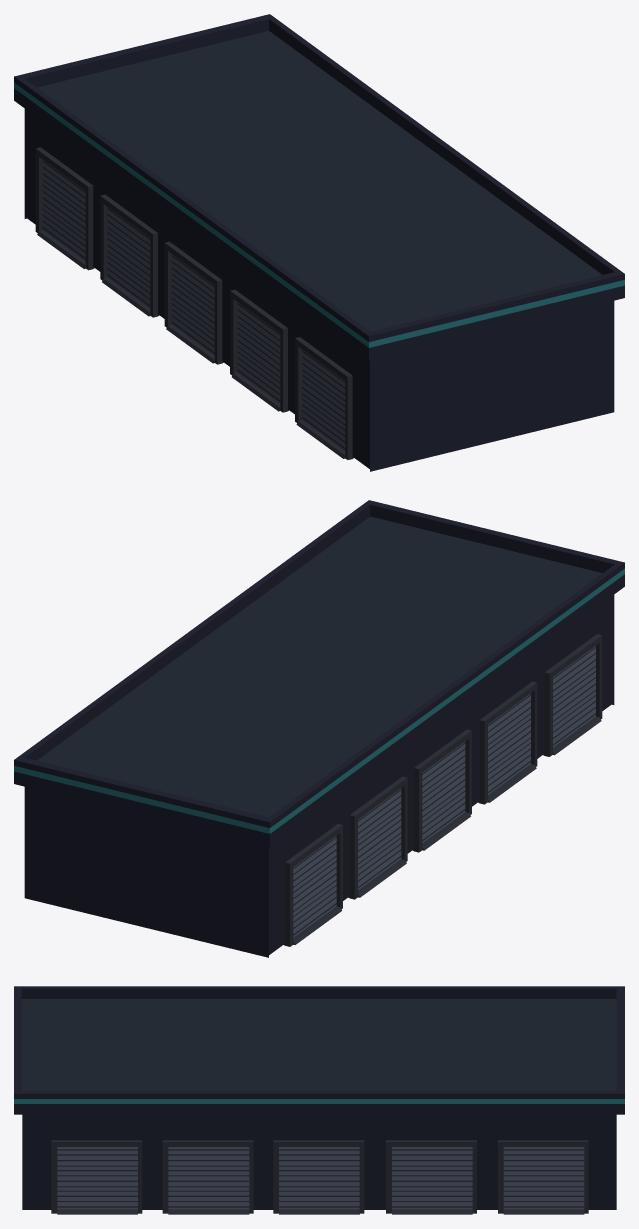
File: Building_StorageUnits01.fbx
3 renders of one model, top to bottom at view 1: azimuth 30°, elevation 25°; view 2: azimuth 150°, elevation 25°; view 3: azimuth 270°, elevation 25°, orthographic. The views are drawn at different scales.
Visible parts, largest first — view 1: Cube.625; view 2: Cube.625; view 3: Cube.625.
Part boxes in pixels (<box>): Cube.625: <box>14,14,624,471</box>; Cube.625: <box>14,500,624,957</box>; Cube.625: <box>14,986,624,1214</box>.
Bounding box in the file's own units: 971 × 507 × 2323.
